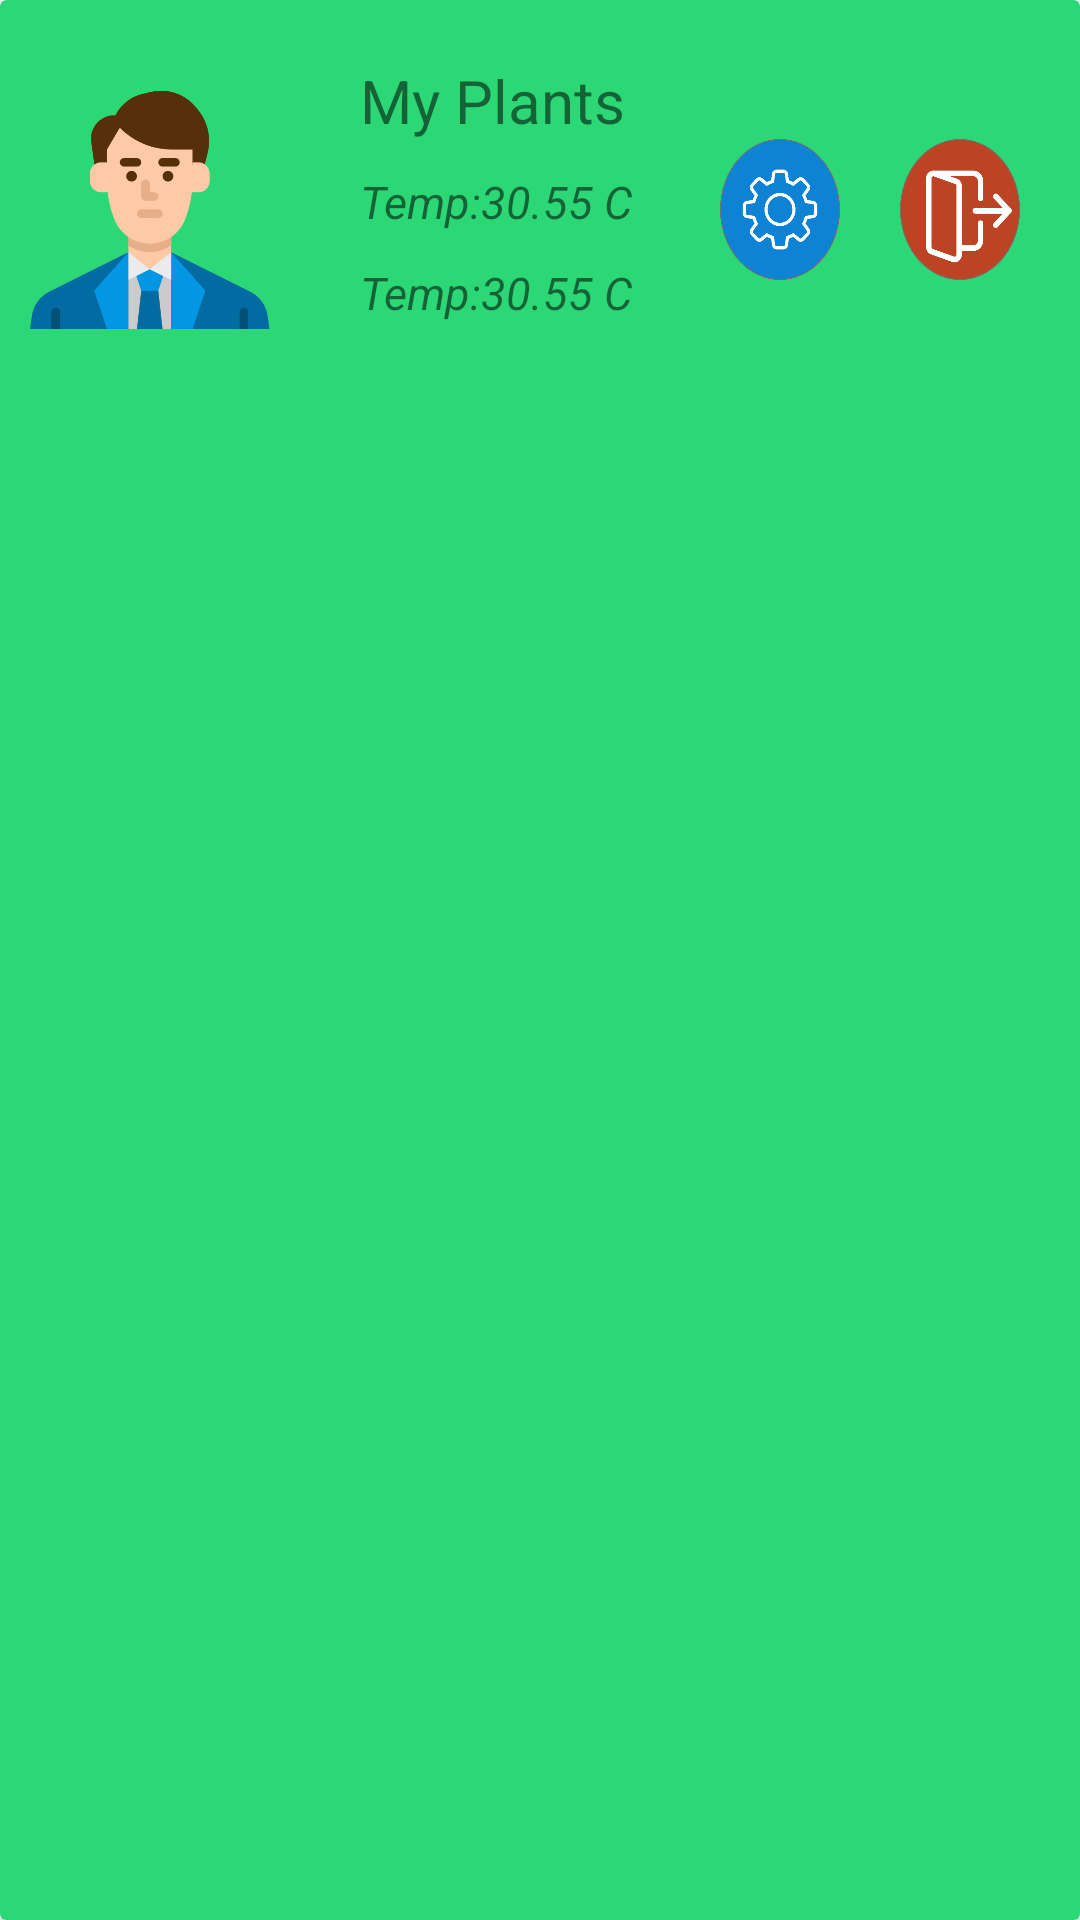

Screen size 1080 × 1920. Icon name, then its center in pixels as (x,y):
man: (150,210)
settings: (780,209)
